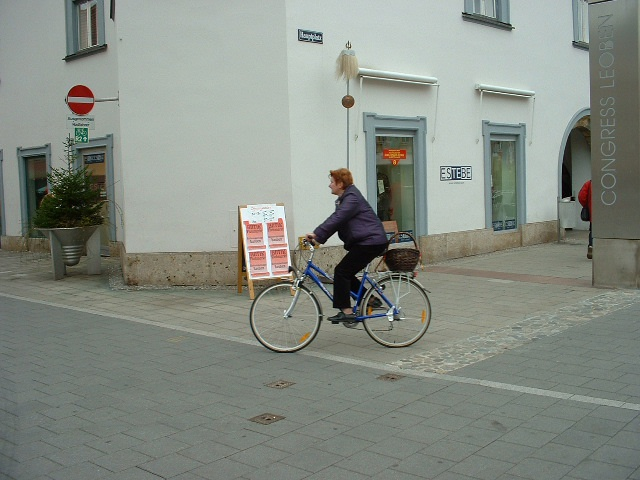person: (304, 165, 390, 329)
